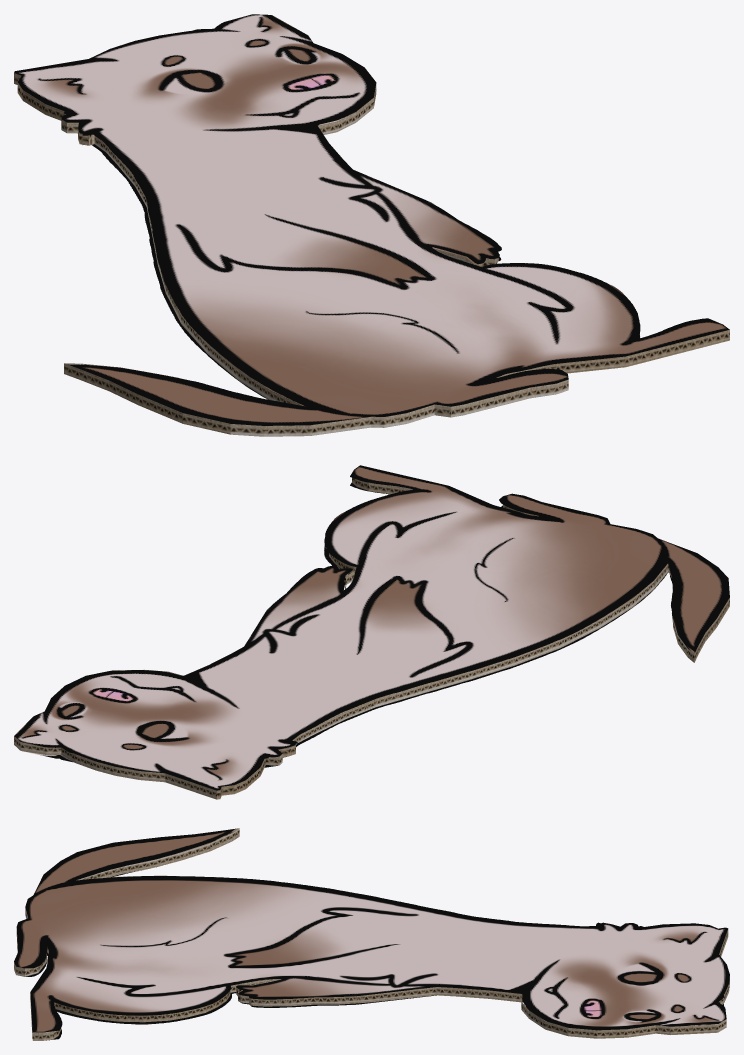
Rendered from furye.fbx.
The picture shows the model from 3 angles, top to bottom: view 1: azimuth 30°, elevation 25°; view 2: azimuth 150°, elevation 25°; view 3: azimuth 270°, elevation 25°; orthographic projection. The views are drawn at different scales.
Parts seen in each view (by area): view 1: Plane; view 2: Plane; view 3: Plane.
Boxes of the visible parts, box(x1,y1,x2,y2) form: Plane: box(14, 14, 729, 436); Plane: box(14, 465, 729, 799); Plane: box(14, 828, 729, 1040).
Bounding box in the file's own units: 258 × 5 × 383.
